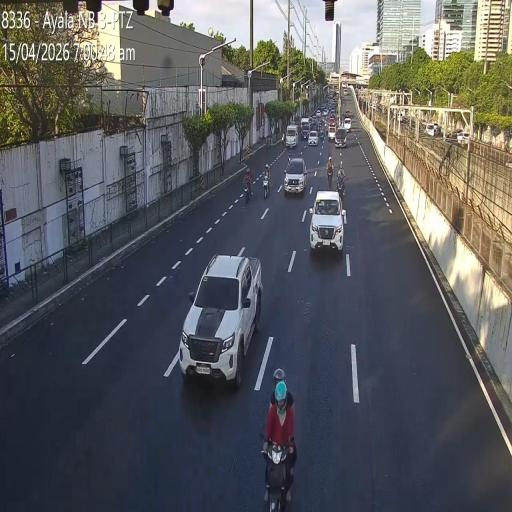Car: (179, 252, 261, 387), (309, 190, 345, 252), (284, 156, 307, 195), (285, 124, 299, 148), (334, 127, 347, 147), (308, 129, 318, 146), (300, 124, 311, 138), (328, 123, 336, 141), (344, 116, 352, 131)
Motor: (260, 374, 295, 507), (260, 169, 270, 198), (337, 170, 345, 198), (326, 156, 333, 187), (244, 176, 252, 200)
Not Accident: (314, 164, 346, 248), (328, 124, 346, 144), (301, 125, 317, 145)
